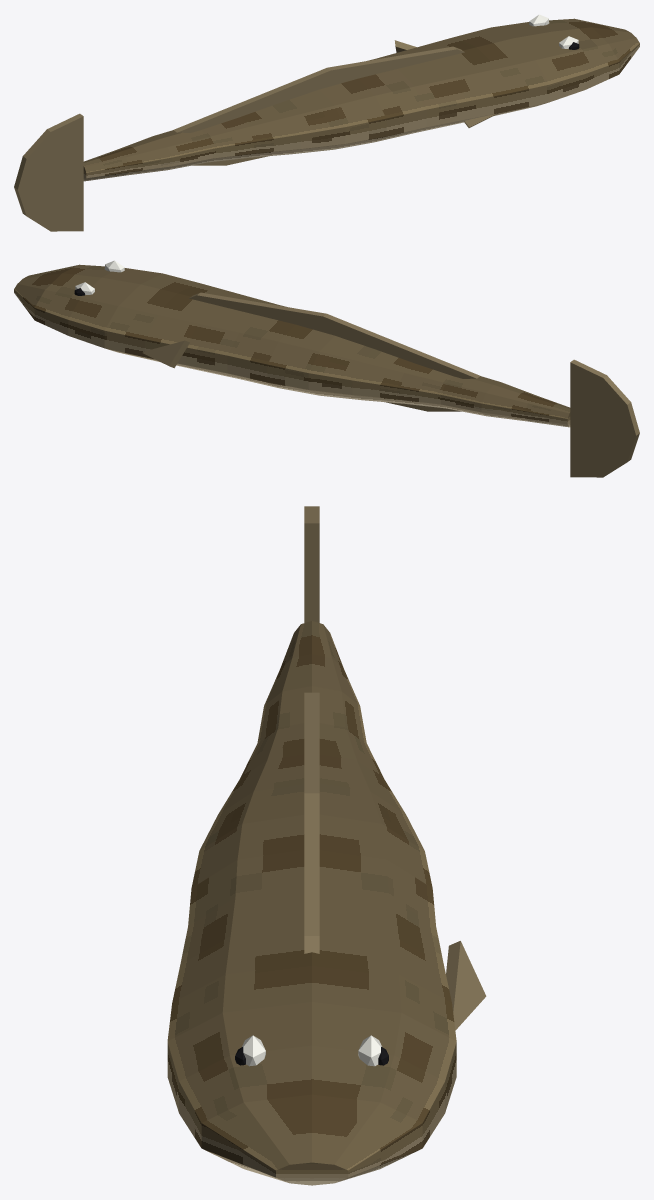
The model's file is flathead_gudgeon.glb.
3 views of the same model, one above another, from view 1: azimuth 30°, elevation 25°; view 2: azimuth 150°, elevation 25°; view 3: azimuth 270°, elevation 25° (orthographic). The views are drawn at different scales.
Parts seen in each view (by area): view 1: fish_flathead_gudgeon; view 2: fish_flathead_gudgeon; view 3: fish_flathead_gudgeon.
Part boxes in pixels (left/top/right/bottom): fish_flathead_gudgeon: left=14, top=14, right=639, bottom=231; fish_flathead_gudgeon: left=14, top=260, right=639, bottom=477; fish_flathead_gudgeon: left=167, top=506, right=486, bottom=1185.
Bounding box in the file's own units: 1.12 × 0.2 × 0.2515.
4 materials, 1 textured.
